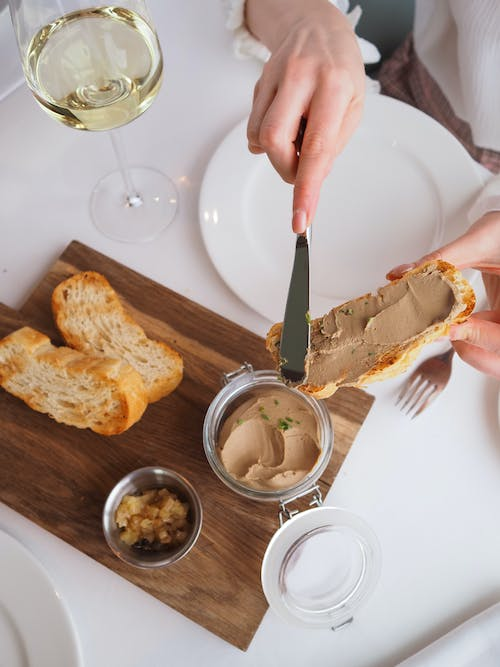alcohol: (6, 0, 181, 247)
knife: (278, 224, 312, 390)
